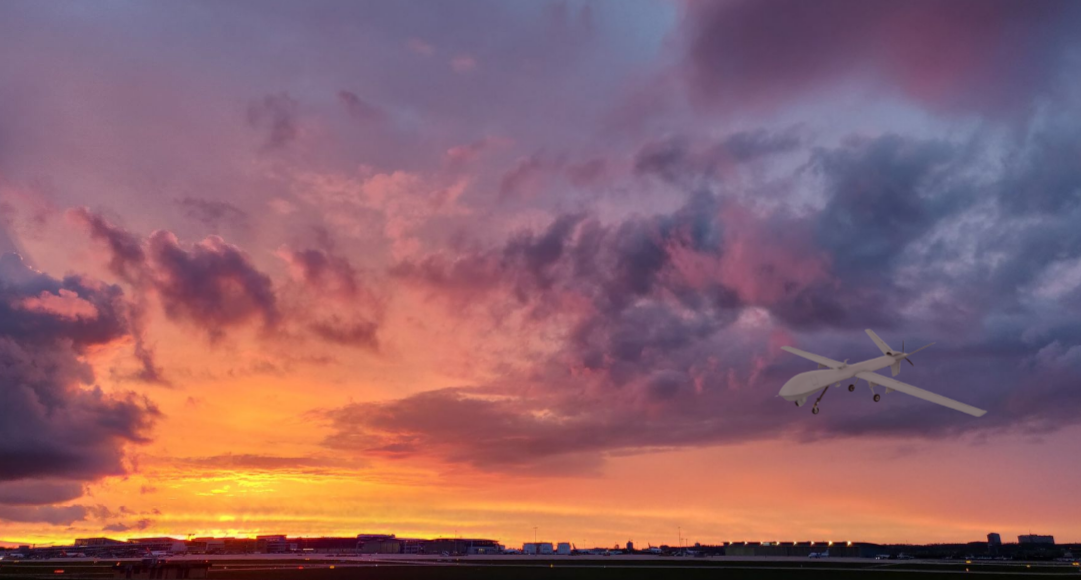military drone: (773, 327, 987, 417)
